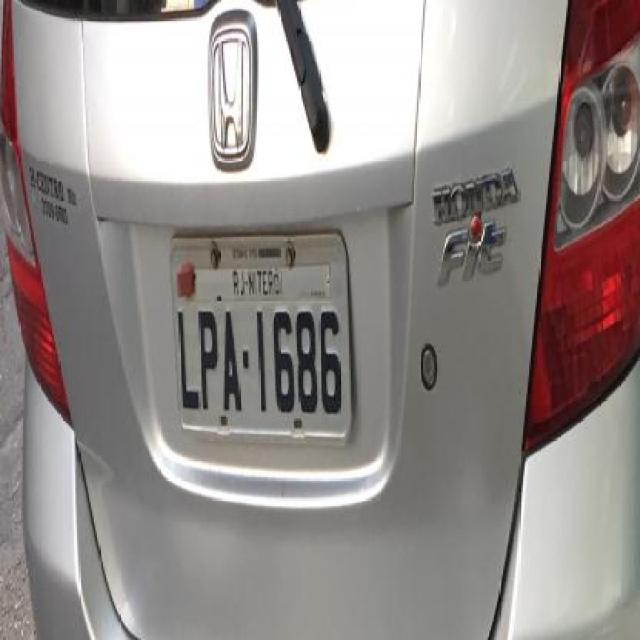old_plate: (158, 224, 368, 456)
